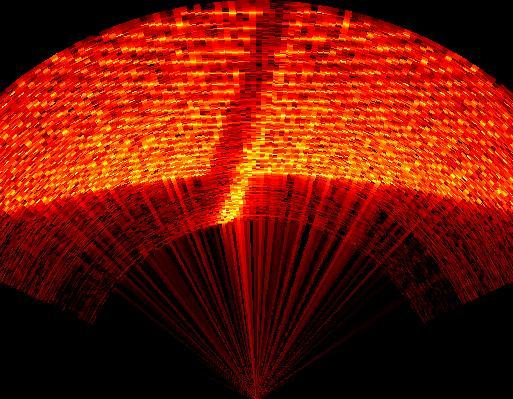pipe: (198, 4, 312, 230)
